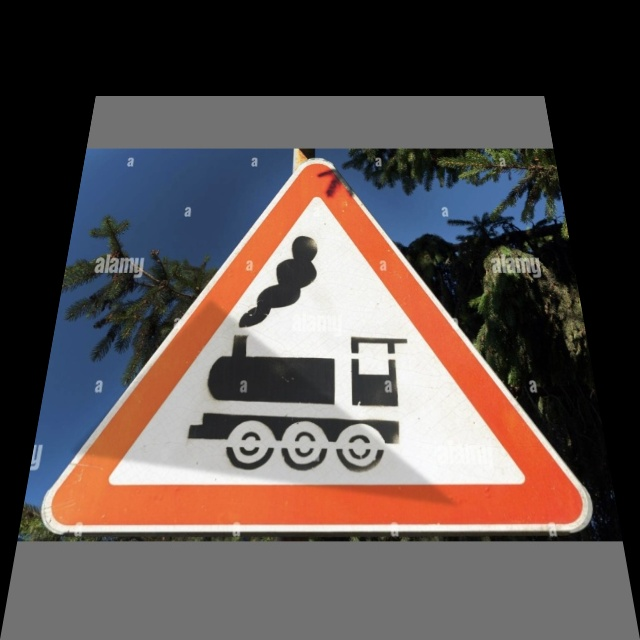Unguarded_Level_Crossing: (87, 176, 534, 522)
